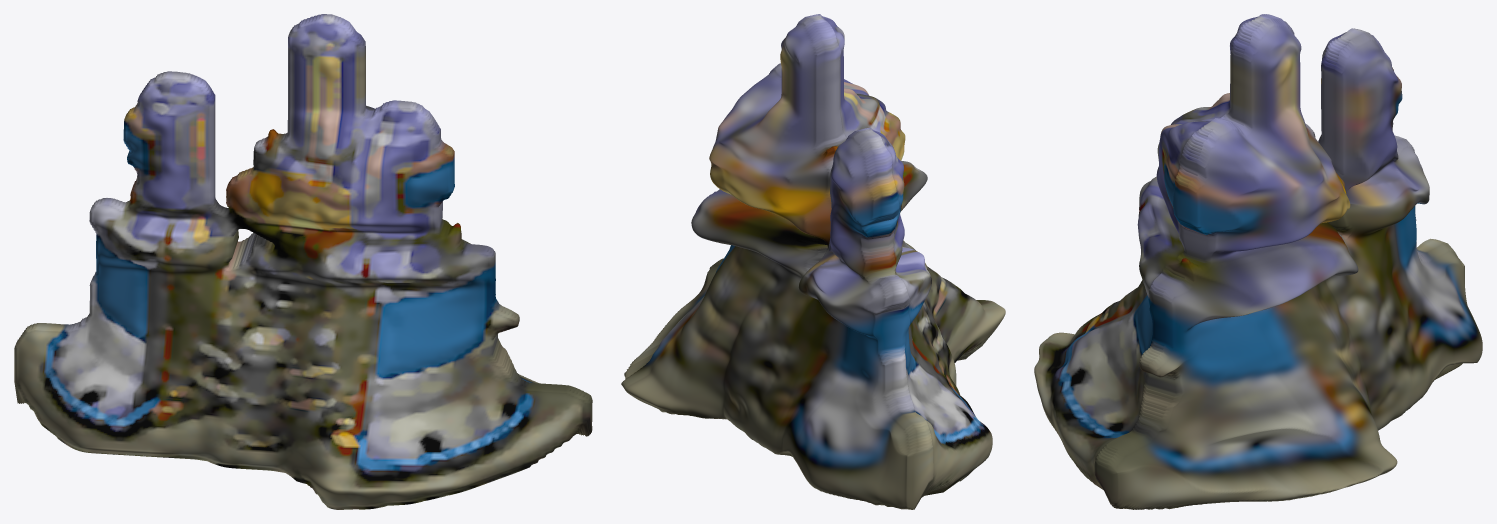
File: allied_power_plant.glb
The picture shows the model from 3 angles, left to right: view 1: azimuth 30°, elevation 25°; view 2: azimuth 150°, elevation 25°; view 3: azimuth 270°, elevation 25°; orthographic projection. The views are drawn at different scales.
Visible parts, largest first — view 1: allied_power_plant; view 2: allied_power_plant; view 3: allied_power_plant.
Part boxes in pixels (x1,y1,x2,y2): allied_power_plant: (14,14,592,509); allied_power_plant: (621,14,1005,509); allied_power_plant: (1034,14,1482,509).
Size of the model in its own units: 1.67 by 1.58 by 1.6.
